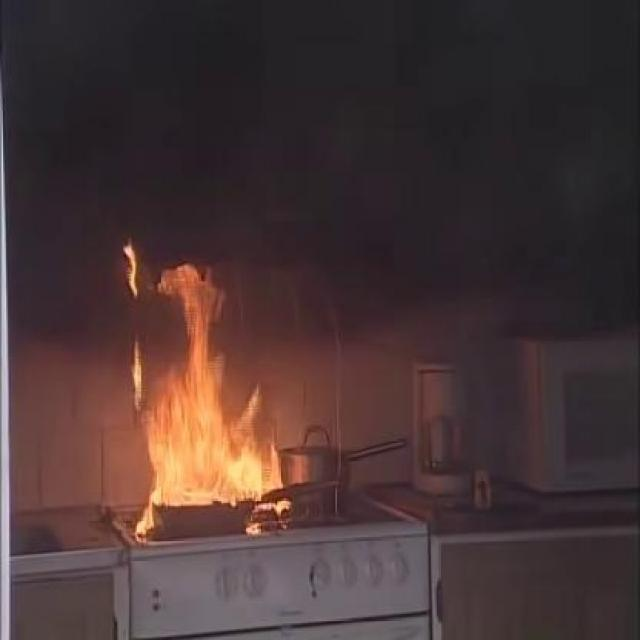fire: (102, 233, 304, 530)
